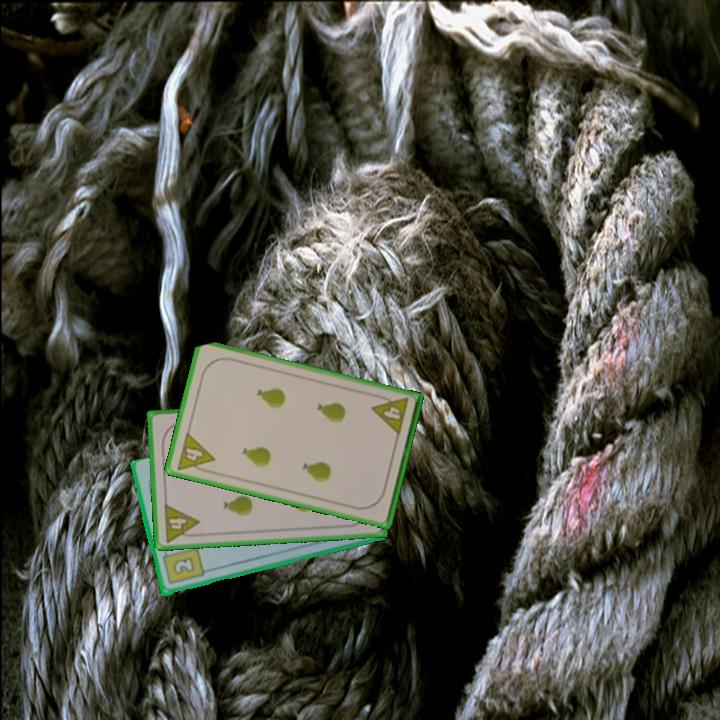2b: (159, 544, 206, 587)
4p: (173, 429, 218, 477), (368, 391, 411, 438), (160, 500, 203, 545)
